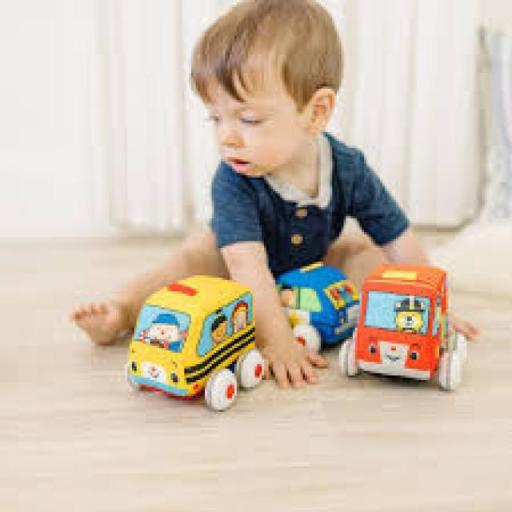baby: (75, 0, 420, 389)
